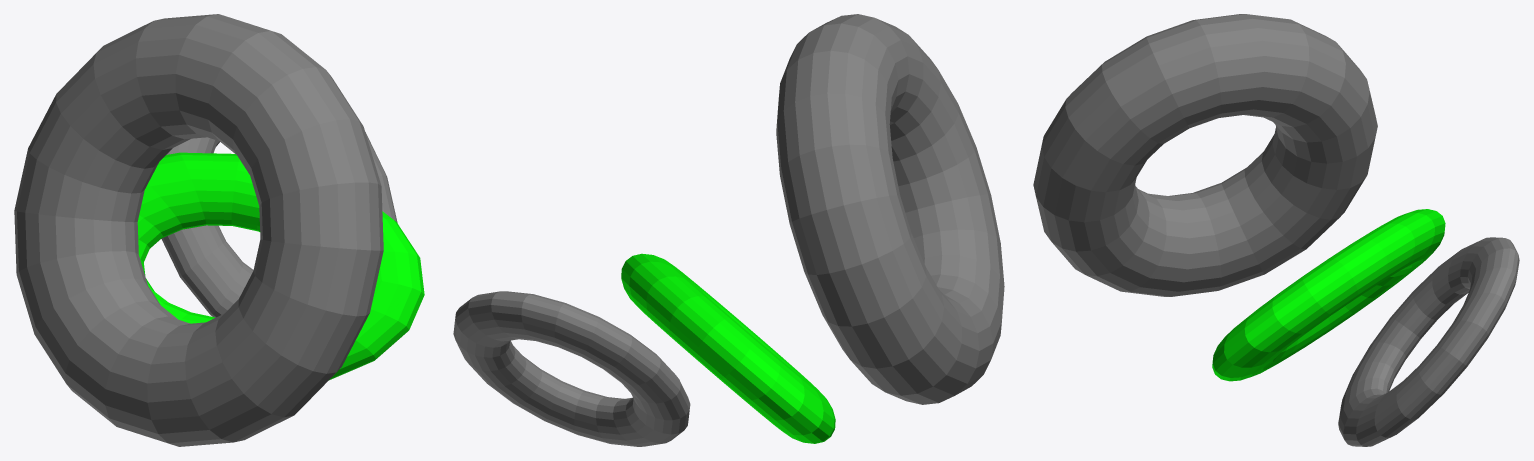
The model's file is effect_blinn_emission_texture.dae.
3 views of the same model, side by side, from view 1: azimuth 30°, elevation 25°; view 2: azimuth 150°, elevation 25°; view 3: azimuth 270°, elevation 25° (orthographic). The views are drawn at different scales.
Visible parts, largest first — view 1: pTorus3, pTorus1, pTorus2; view 2: pTorus3, pTorus2, pTorus1; view 3: pTorus3, pTorus2, pTorus1.
Boxes of the visible parts, <box> form: pTorus3: <box>14,14,383,446</box>; pTorus1: <box>137,152,424,380</box>; pTorus2: <box>161,132,397,317</box>; pTorus3: <box>776,14,1004,404</box>; pTorus2: <box>453,291,690,446</box>; pTorus1: <box>621,253,835,443</box>; pTorus3: <box>1033,14,1377,296</box>; pTorus2: <box>1338,237,1519,446</box>; pTorus1: <box>1212,209,1445,381</box>.
Bounding box in the file's own units: 308 × 283 × 357.
2 materials, 1 textured.
